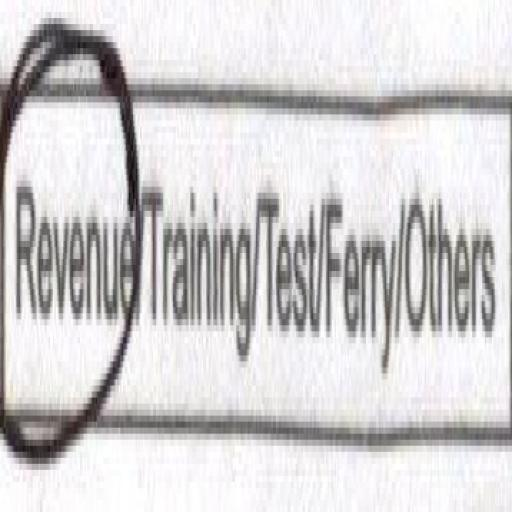check: (3, 0, 144, 512)
